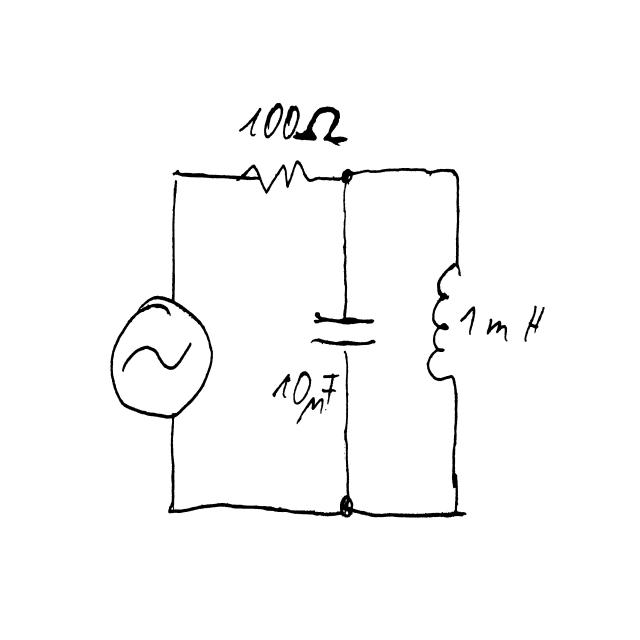capacitor: (310, 311, 379, 351)
inductor: (425, 257, 465, 386)
junction: (159, 496, 183, 527), (335, 494, 359, 522), (165, 161, 185, 189), (336, 165, 358, 190), (448, 501, 467, 526), (448, 161, 464, 185)
resistor: (237, 153, 316, 196)
source: (106, 292, 216, 425)
text: (237, 102, 352, 146), (267, 368, 341, 425), (457, 303, 547, 345)
